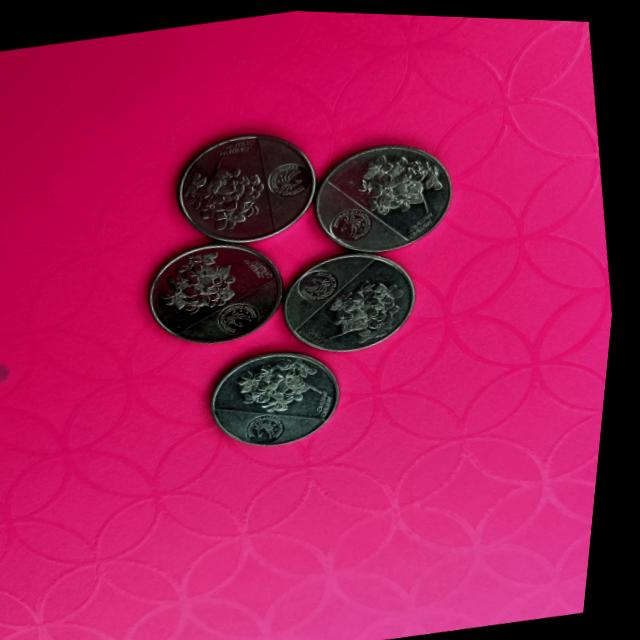1_New_Back: (350, 143, 449, 224), (155, 240, 256, 319), (315, 269, 412, 346), (185, 155, 269, 235), (240, 349, 326, 412)
